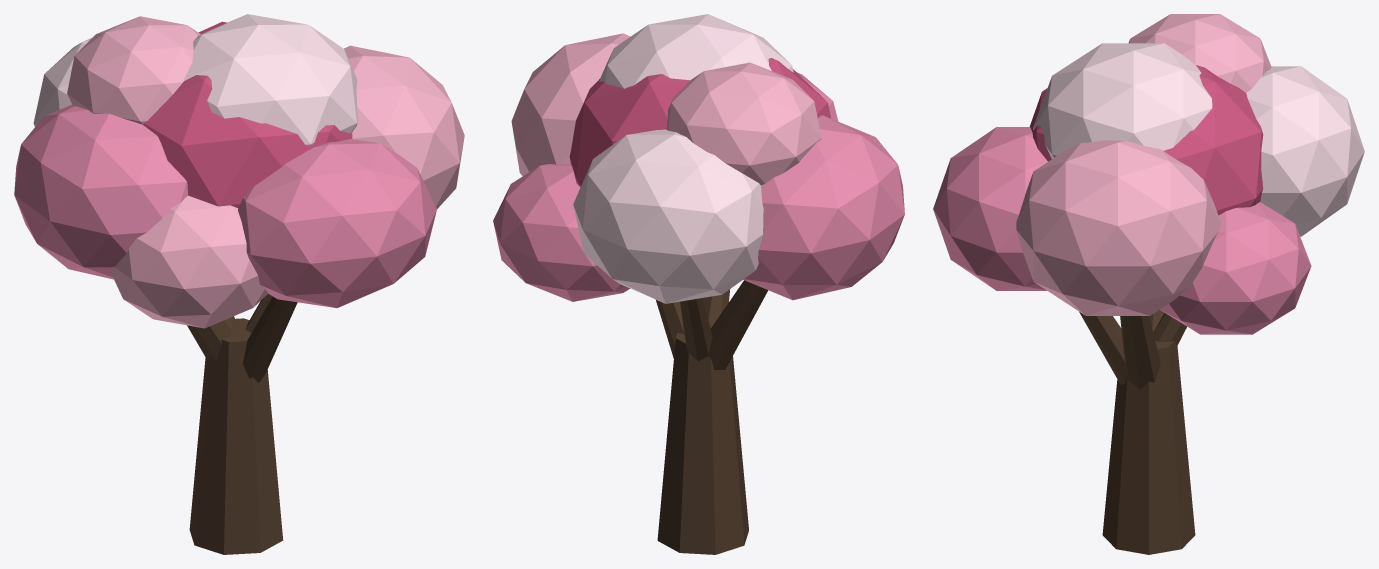
File: sakura_tree_sakura_a.glb
3 renders of one model, left to right at view 1: azimuth 30°, elevation 25°; view 2: azimuth 150°, elevation 25°; view 3: azimuth 270°, elevation 25°, orthographic. The views are drawn at different scales.
Visible parts, largest first — view 1: sakura_tree_sakura_a; view 2: sakura_tree_sakura_a; view 3: sakura_tree_sakura_a.
Boxes of the visible parts, left/top/right/bottom form: sakura_tree_sakura_a: left=14, top=14, right=464, bottom=554; sakura_tree_sakura_a: left=493, top=14, right=904, bottom=554; sakura_tree_sakura_a: left=933, top=14, right=1364, bottom=554.
Bounding box in the file's own units: 2.8 × 3.5 × 2.79.
Materials: 1 (1 with a texture image).
